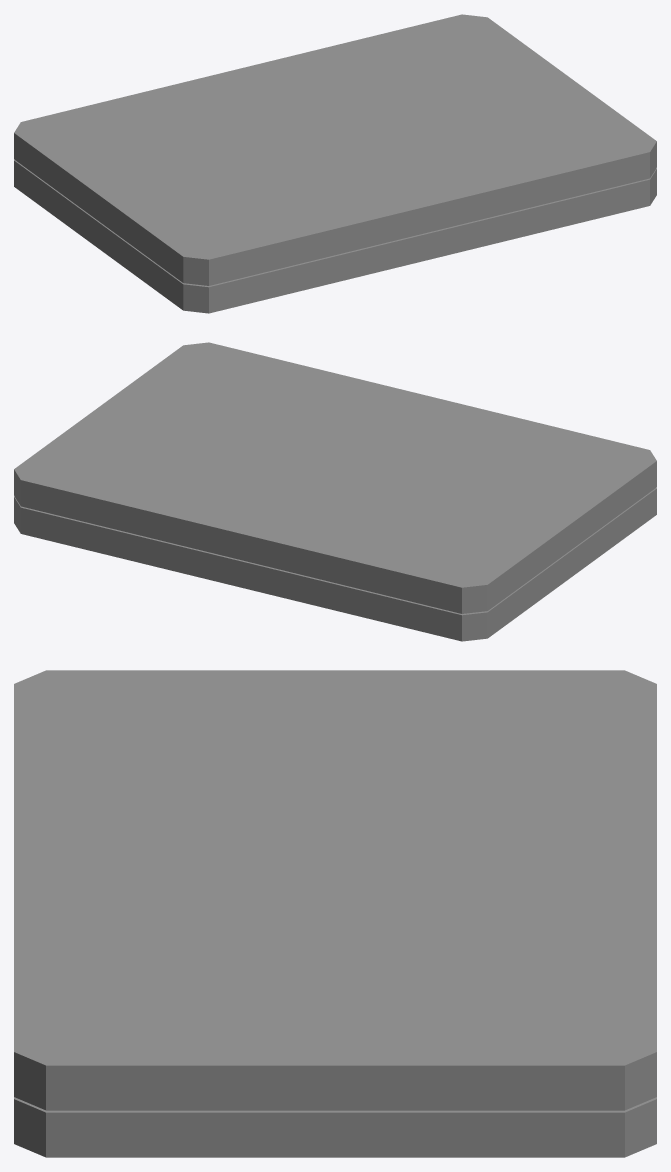
Rendered from laptop_closed.fbx.
3 views of the same model, one above another, from view 1: azimuth 30°, elevation 25°; view 2: azimuth 150°, elevation 25°; view 3: azimuth 270°, elevation 25° (orthographic). The views are drawn at different scales.
Visible parts, largest first — view 1: laptop_closed; view 2: laptop_closed; view 3: laptop_closed.
Boxes of the visible parts, x1,y1,x2,y2 form: laptop_closed: [14, 14, 656, 313]; laptop_closed: [14, 342, 656, 641]; laptop_closed: [14, 670, 656, 1157].
Size of the model in its own units: 37.69 by 4.09 by 25.92.
